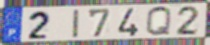2: (26, 9, 53, 41), (175, 6, 202, 36)
4: (116, 7, 140, 38)
7: (87, 8, 113, 39)
I: (72, 8, 81, 39)
Q: (145, 6, 173, 38)
